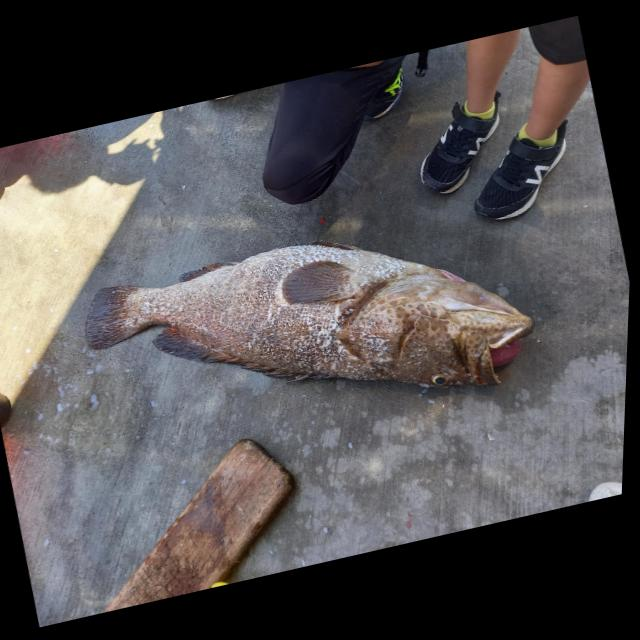Groupers: (68, 193, 551, 473)
